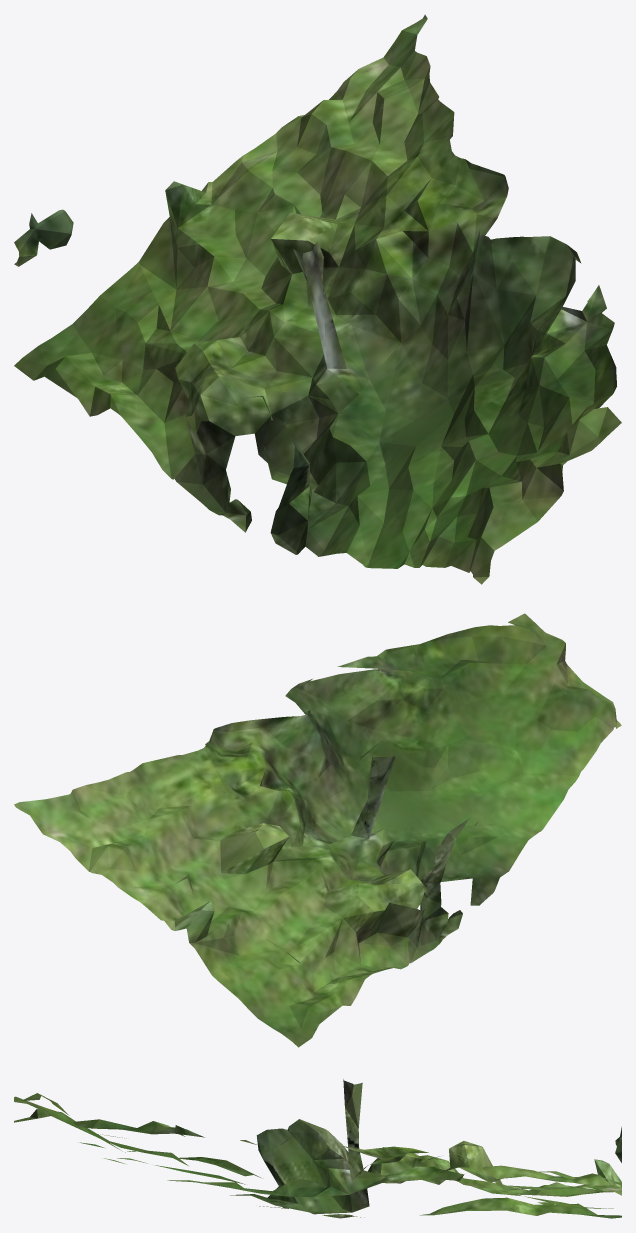
3 renders of one model, top to bottom at view 1: azimuth 30°, elevation 25°; view 2: azimuth 150°, elevation 25°; view 3: azimuth 270°, elevation 25°, orthographic. The views are drawn at different scales.
Bounding box in the file's own units: 13.25 × 7.78 × 26.11.
Materials: 2 (2 with a texture image).
